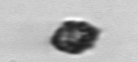plankton: (48, 16, 106, 57)
